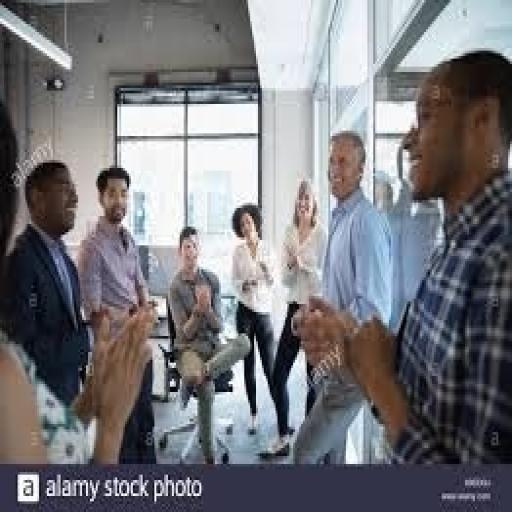clapping: (291, 45, 510, 467), (0, 93, 154, 466), (164, 221, 252, 464), (227, 200, 291, 440)
